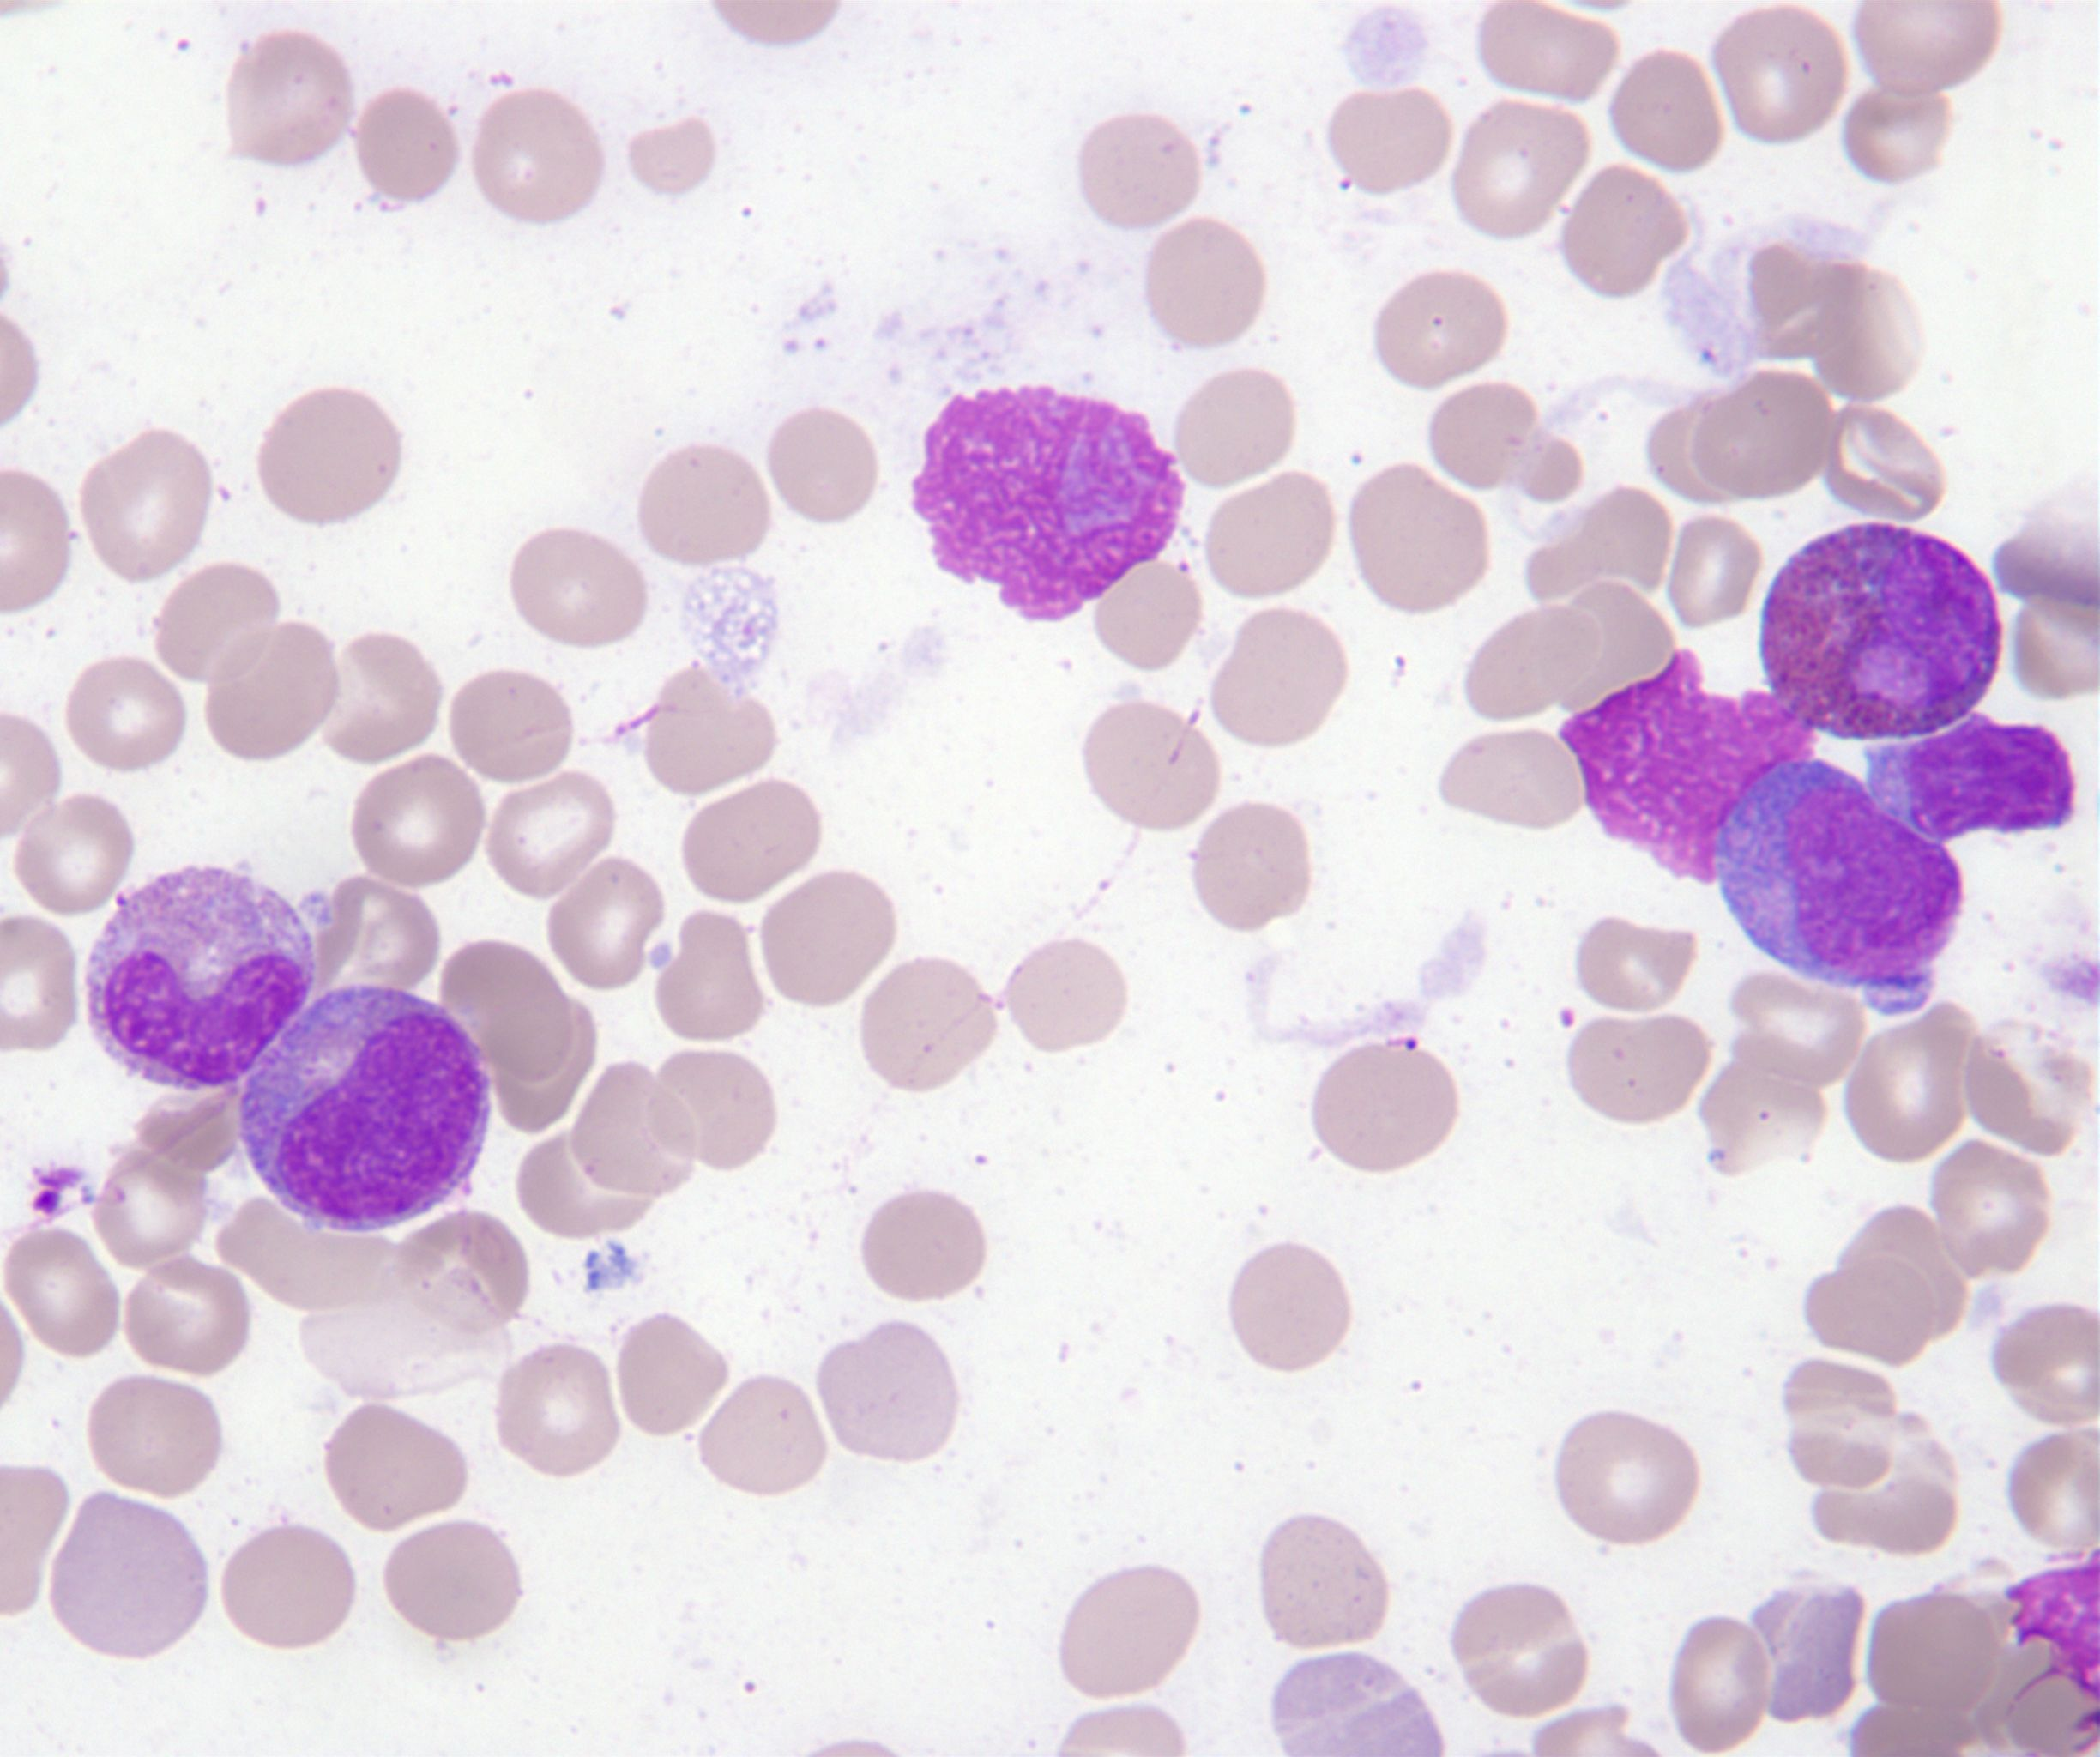2: (1716, 757, 1962, 989)
3: (241, 989, 485, 1234)
32: (1866, 712, 2074, 841)
4: (89, 867, 314, 1094)
E2: (1760, 523, 2001, 738)
x: (914, 389, 1183, 619), (1561, 649, 1814, 883)
